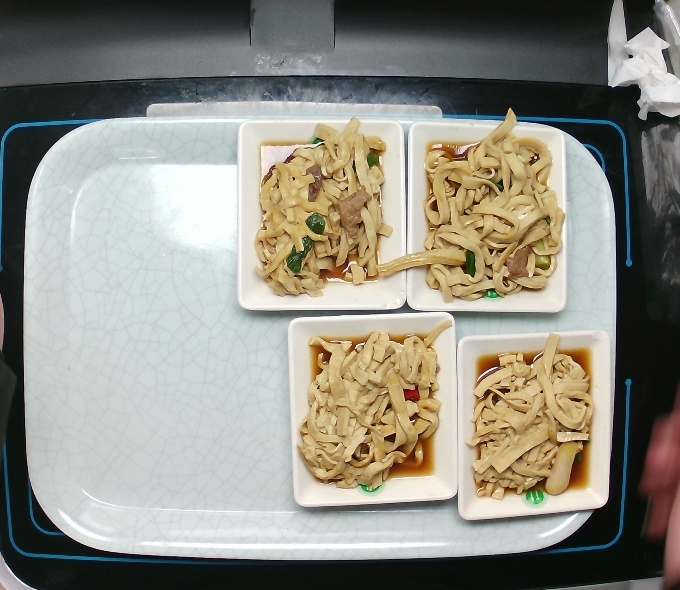wcq-QianZhang: (376, 111, 569, 304), (288, 314, 462, 498), (236, 115, 401, 305), (454, 336, 604, 510)
